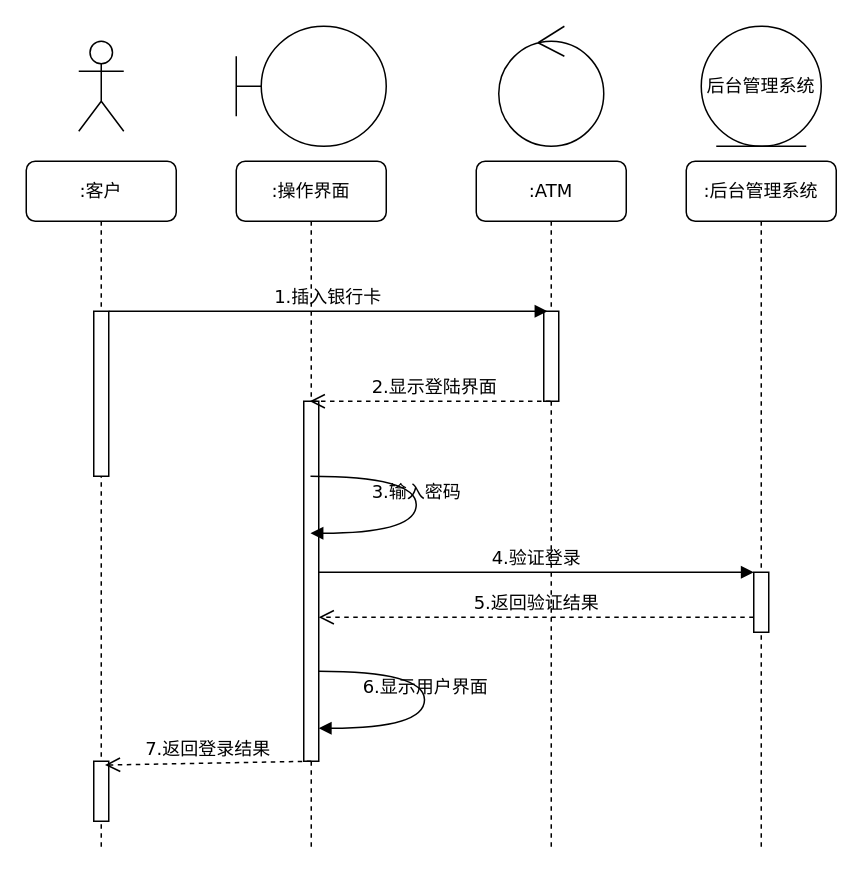
The diagram is 863 pixels wide and 878 high, and some of its shapes have lost their labels. Here are the shapes that lost their labels. From the top down, the centre of each, then its label:
(100,85): 客户
(310,85): 操作界面
(550,85): ATM
